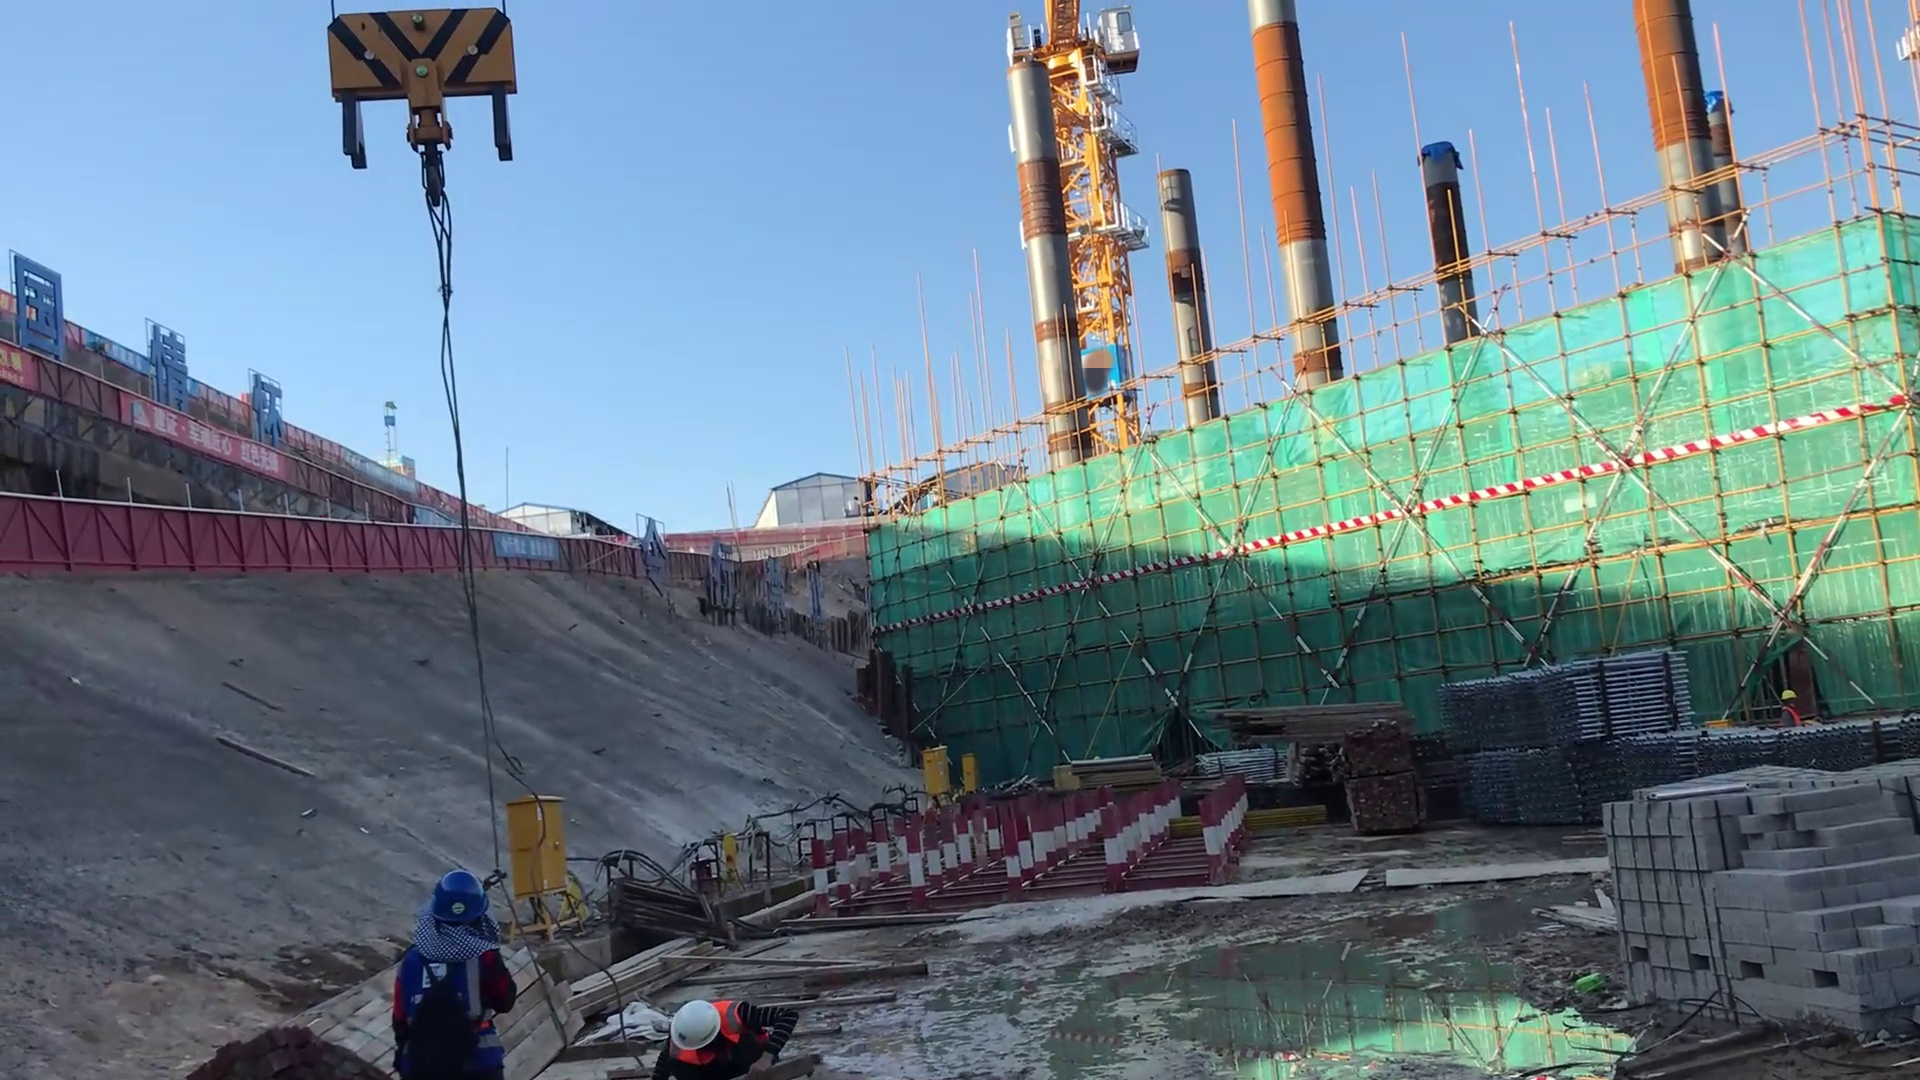brick: (1600, 775, 1911, 1046)
ebox: (500, 775, 571, 898), (921, 743, 954, 798), (958, 753, 977, 789)
fence: (12, 487, 478, 587)
helmet: (423, 860, 492, 931), (663, 997, 718, 1046)
hook: (334, 13, 521, 178)
person: (388, 867, 527, 1080), (645, 997, 802, 1080), (1775, 689, 1807, 728)
scaffold: (1427, 665, 1704, 745), (1458, 732, 1593, 820)
wood: (1219, 697, 1422, 749)
